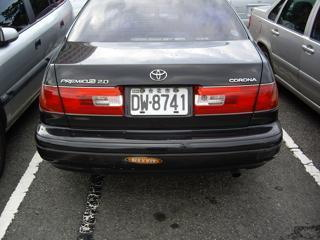plate: (129, 86, 189, 117)
